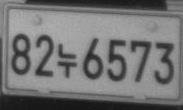2: (33, 33, 54, 76)
3: (153, 41, 175, 85)
5: (106, 38, 127, 82)
6: (82, 37, 103, 80)
7: (129, 39, 152, 82)
8: (10, 32, 31, 76)
누: (56, 42, 77, 78)
